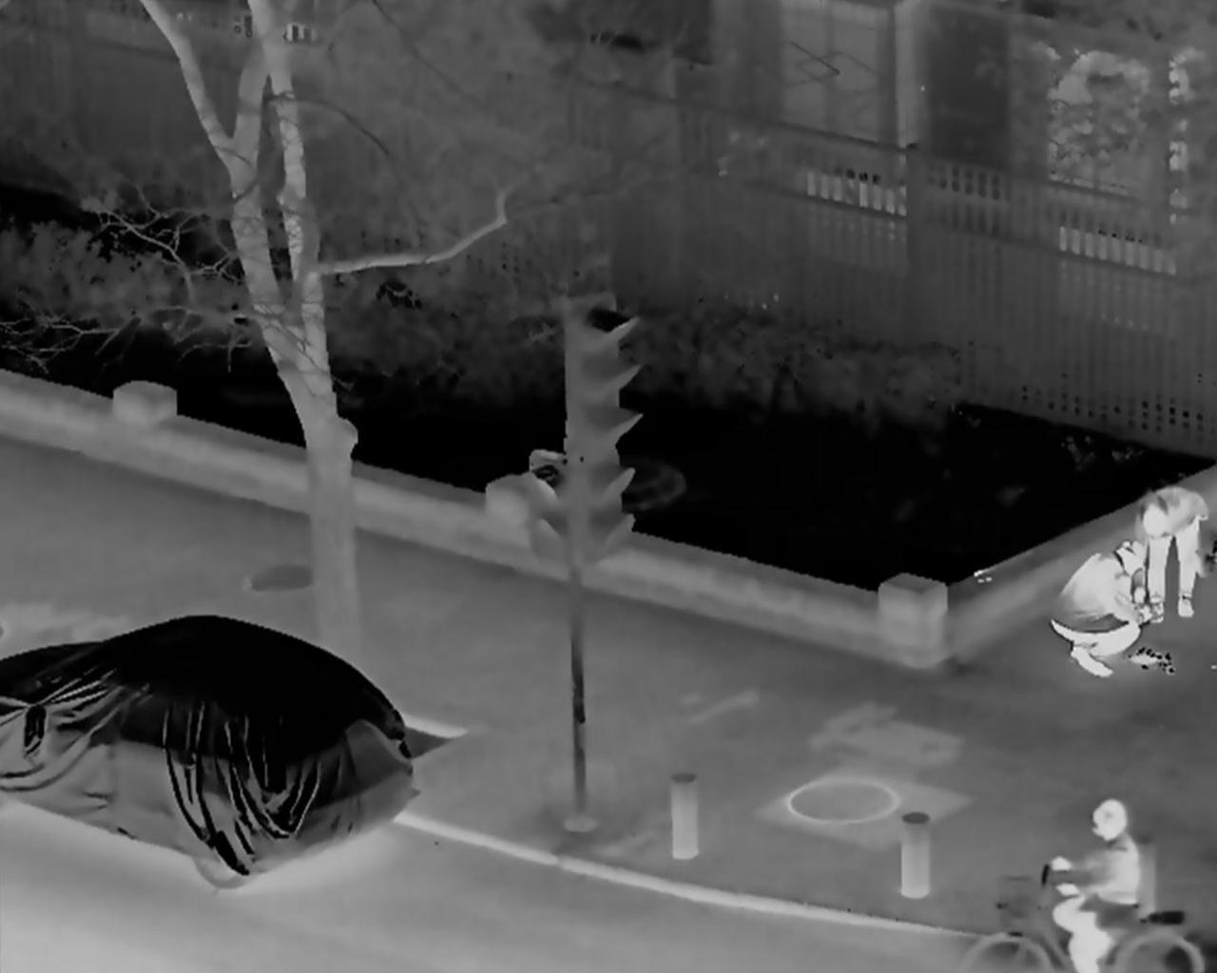person: (1052, 797, 1148, 971), (1048, 539, 1144, 677), (1136, 486, 1204, 619)
